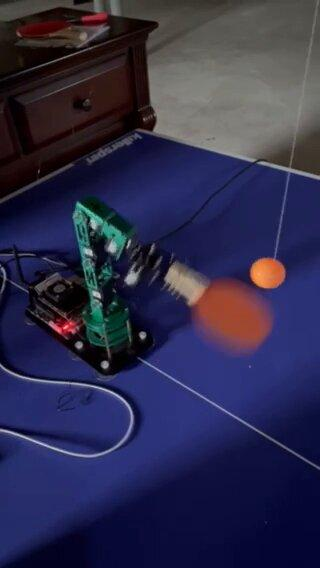oball: (251, 257, 284, 290)
